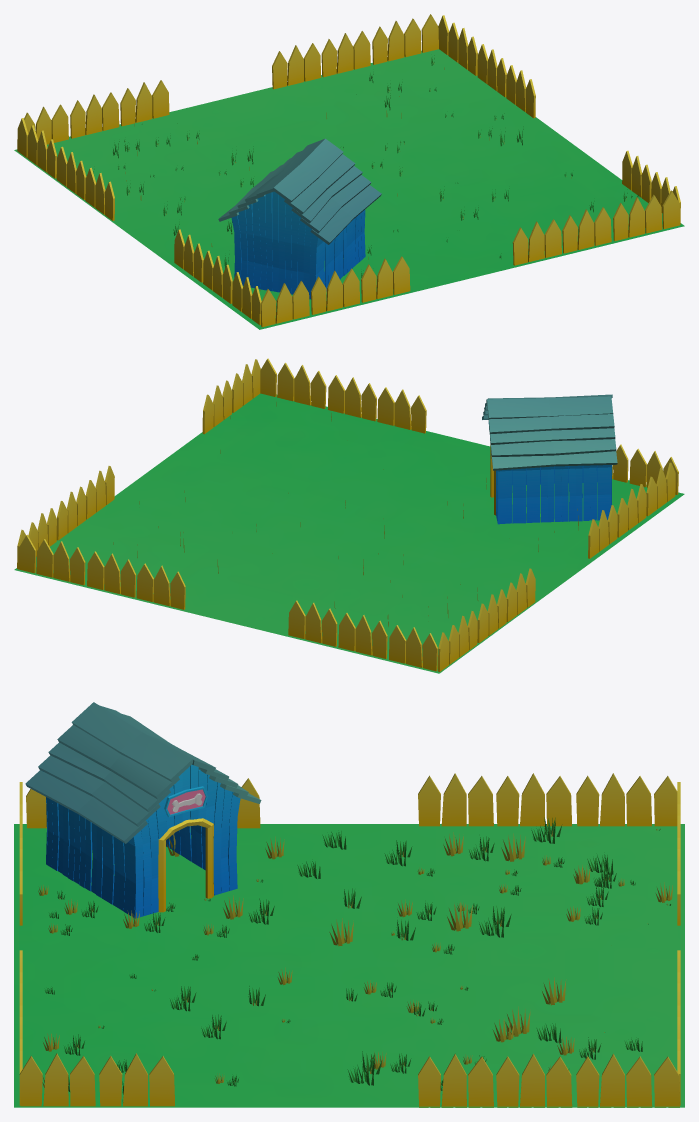
The model's file is garden.glb.
3 views of the same model, one above another, from view 1: azimuth 30°, elevation 25°; view 2: azimuth 150°, elevation 25°; view 3: azimuth 270°, elevation 25° (orthographic). The views are drawn at different scales.
Parts seen in each view (by area): view 1: Plane.000, Cube.016, Cube.011, Cube.001; view 2: Plane.000, Cube.016, Cube.001, Cube.011; view 3: Plane.000, Cube.016, Cube.011, Cube.001, Cube.007.
Part boxes in pixels (<box>): Plane.000: <box>14,49,684,329</box>; Cube.016: <box>17,14,680,327</box>; Cube.011: <box>231,191,365,299</box>; Cube.001: <box>218,138,381,244</box>; Plane.000: <box>14,393,684,673</box>; Cube.016: <box>17,358,678,671</box>; Cube.001: <box>482,394,617,470</box>; Cube.011: <box>490,444,612,524</box>; Plane.000: <box>14,824,684,1107</box>; Cube.016: <box>19,773,680,1107</box>; Cube.011: <box>43,764,240,918</box>; Cube.001: <box>25,702,261,843</box>; Cube.007: <box>164,786,207,817</box>.
Size of what is drawn, in the model's own units: 10 by 2.67 by 10.
Materials: 5 (5 with a texture image).
